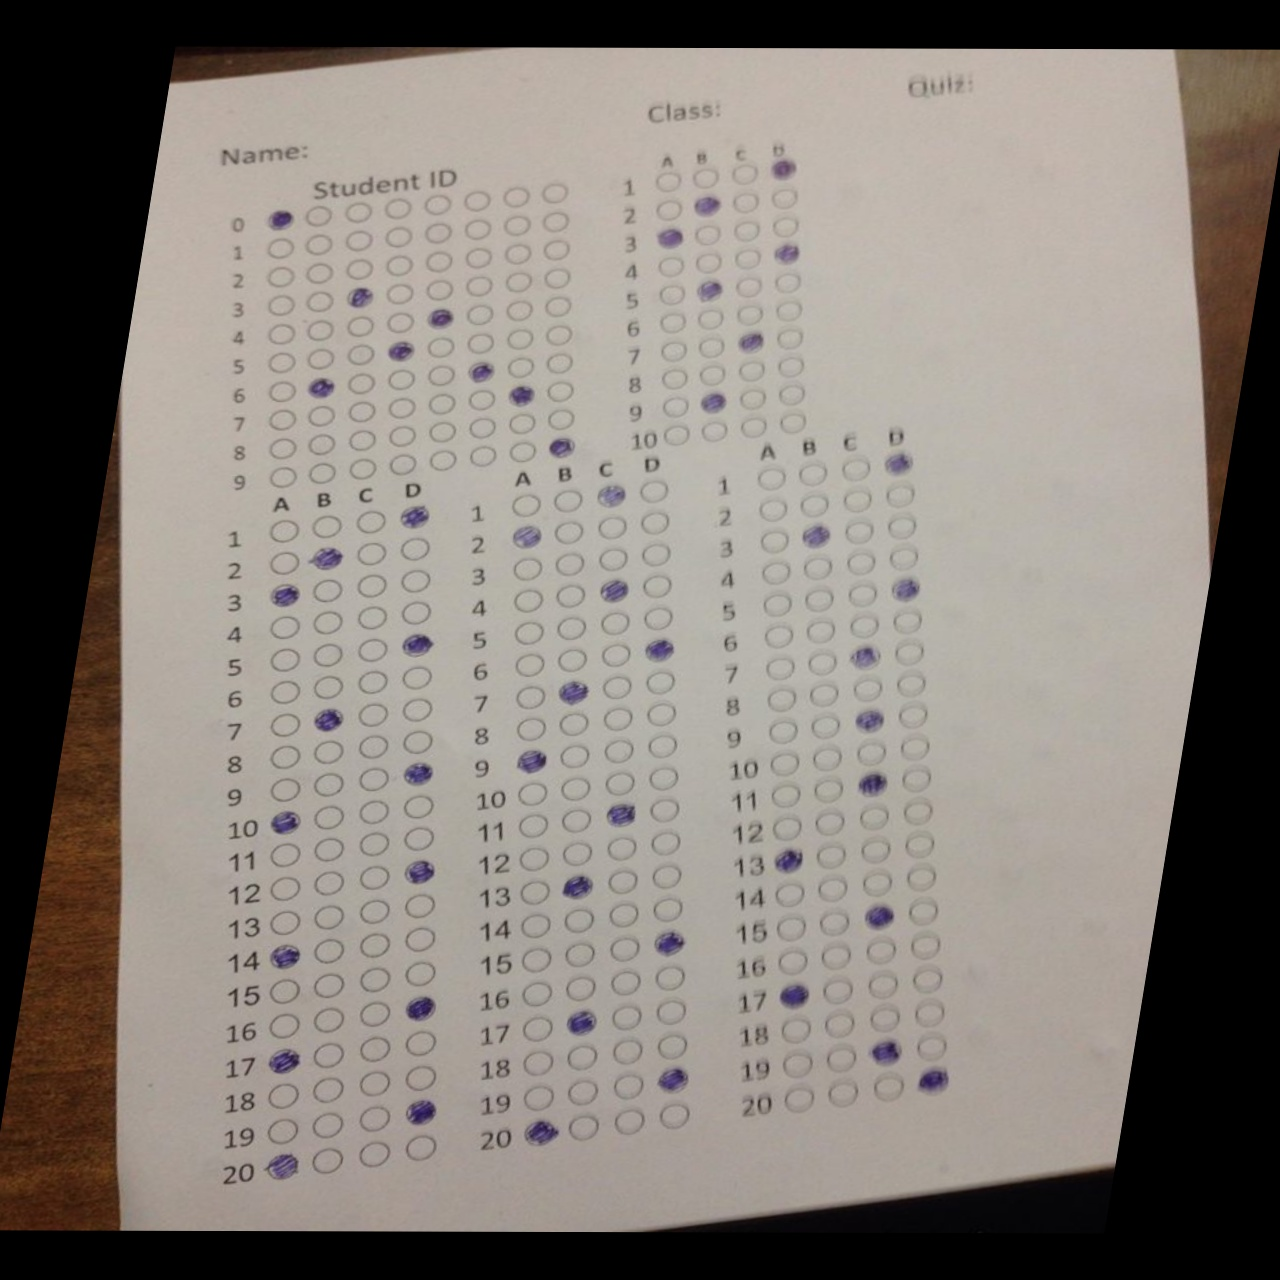not-c: (871, 1073, 911, 1104), (863, 1005, 903, 1034), (809, 775, 845, 805), (309, 1110, 347, 1139), (264, 1012, 302, 1040), (509, 619, 546, 647), (904, 865, 941, 893), (264, 910, 302, 937), (355, 966, 394, 993), (402, 1133, 441, 1160), (891, 704, 930, 731), (353, 1143, 395, 1167), (658, 1101, 692, 1131), (306, 1148, 346, 1173), (563, 1115, 602, 1141), (822, 1046, 862, 1071), (597, 642, 633, 670), (560, 941, 597, 969), (897, 735, 933, 763), (263, 1118, 301, 1144), (610, 1108, 648, 1133), (884, 516, 922, 542), (815, 945, 853, 971), (312, 770, 347, 798), (356, 767, 392, 795), (905, 898, 940, 926), (912, 1035, 947, 1063), (779, 1085, 815, 1114), (312, 937, 348, 964), (403, 1032, 440, 1058), (813, 876, 850, 903), (302, 459, 340, 485), (263, 1083, 300, 1109), (358, 1073, 395, 1098), (512, 715, 550, 741), (651, 864, 688, 890), (561, 908, 599, 934), (858, 871, 896, 897), (819, 979, 857, 1005), (517, 1017, 558, 1041), (753, 464, 787, 492), (377, 197, 416, 222), (309, 1078, 348, 1103), (772, 915, 811, 940), (311, 1041, 346, 1068), (772, 881, 808, 908), (313, 906, 349, 932), (355, 1107, 392, 1132), (644, 703, 680, 729), (517, 812, 553, 838), (561, 975, 598, 1001), (607, 971, 644, 996), (610, 1005, 646, 1030), (612, 1039, 648, 1064), (520, 1085, 557, 1111), (893, 674, 930, 700), (515, 914, 554, 938), (265, 979, 302, 1003), (645, 668, 678, 696), (840, 520, 878, 545), (857, 839, 894, 864), (312, 738, 346, 765), (401, 729, 435, 756), (806, 682, 840, 709), (400, 962, 441, 985), (397, 537, 433, 563), (311, 644, 346, 669), (399, 699, 437, 722), (265, 842, 300, 867), (356, 865, 392, 891), (598, 611, 633, 636), (510, 654, 549, 678), (554, 648, 590, 674), (608, 937, 644, 962), (654, 1034, 689, 1060), (612, 1074, 647, 1099), (768, 783, 803, 809), (901, 801, 937, 826), (266, 777, 302, 802), (309, 973, 346, 998), (356, 1000, 393, 1024), (552, 519, 588, 544), (518, 981, 554, 1006), (901, 835, 938, 859), (309, 676, 349, 699), (497, 186, 535, 210), (265, 551, 302, 574), (354, 606, 392, 629), (855, 805, 892, 829), (403, 893, 437, 919), (515, 685, 549, 710), (646, 767, 680, 792), (567, 1081, 601, 1107), (845, 583, 879, 608), (806, 652, 840, 678), (908, 967, 942, 993), (821, 1012, 855, 1037), (309, 515, 345, 539), (636, 542, 672, 566), (764, 720, 799, 744), (806, 716, 842, 741), (828, 1082, 863, 1107), (342, 343, 379, 367), (311, 872, 347, 896), (559, 777, 595, 801), (606, 904, 642, 927), (520, 1051, 557, 1075), (756, 530, 792, 553), (891, 611, 927, 634), (358, 670, 392, 695), (358, 900, 392, 925), (761, 626, 795, 651), (864, 940, 898, 965), (354, 833, 392, 856), (645, 799, 682, 822), (264, 409, 299, 433), (401, 666, 436, 689), (268, 877, 304, 900), (358, 933, 393, 956), (309, 1009, 345, 1033), (404, 1065, 440, 1089), (553, 584, 588, 607), (565, 1047, 600, 1070), (801, 590, 836, 613), (847, 615, 883, 639), (851, 679, 886, 702), (865, 974, 900, 998), (314, 836, 345, 863), (516, 949, 554, 971), (819, 911, 851, 937), (355, 703, 392, 726), (517, 847, 553, 870), (595, 516, 628, 540), (602, 770, 635, 795), (806, 618, 839, 642), (301, 202, 335, 225), (423, 192, 457, 216), (268, 647, 302, 670), (356, 639, 390, 662), (559, 811, 593, 835), (651, 899, 685, 922), (798, 493, 832, 517), (760, 561, 794, 585), (765, 688, 799, 712), (856, 741, 890, 764), (728, 164, 765, 185), (772, 356, 810, 377), (838, 459, 876, 481), (840, 491, 878, 512), (777, 1020, 815, 1041), (900, 767, 930, 794), (397, 602, 433, 625), (600, 678, 635, 700), (599, 740, 634, 762), (843, 553, 878, 576), (813, 846, 849, 869), (779, 1055, 815, 1077), (545, 324, 577, 348), (346, 428, 377, 452), (265, 463, 297, 488), (387, 452, 418, 477), (358, 574, 389, 599), (267, 712, 299, 736), (358, 736, 389, 761), (402, 795, 434, 819), (360, 1039, 392, 1063), (737, 387, 769, 411), (554, 617, 586, 641), (762, 593, 794, 618), (777, 949, 809, 974), (384, 309, 417, 333), (427, 393, 459, 416), (268, 745, 301, 769), (641, 610, 674, 633), (602, 708, 635, 731), (558, 744, 591, 768), (561, 844, 594, 867), (655, 1000, 688, 1023), (802, 556, 835, 579), (553, 554, 590, 576), (811, 813, 847, 835), (501, 241, 535, 264), (304, 348, 338, 370), (356, 802, 390, 824), (733, 304, 767, 326), (510, 496, 544, 518), (602, 837, 636, 859), (605, 871, 639, 893), (884, 485, 918, 508), (356, 511, 387, 536), (464, 245, 496, 268), (467, 333, 498, 356), (268, 519, 300, 543), (400, 570, 431, 593), (268, 617, 300, 640), (658, 424, 693, 445), (513, 588, 545, 612), (798, 463, 830, 486), (539, 183, 572, 205), (341, 229, 374, 251), (540, 240, 573, 263), (463, 274, 496, 297), (465, 304, 498, 326), (543, 353, 576, 375), (427, 451, 459, 474), (309, 580, 342, 602), (403, 829, 436, 851), (656, 312, 689, 334), (734, 360, 767, 382), (738, 416, 771, 438), (638, 512, 670, 535), (595, 549, 628, 571), (914, 1001, 947, 1023), (425, 365, 455, 389), (356, 540, 386, 565), (459, 190, 493, 211), (499, 215, 533, 236), (505, 356, 539, 377), (386, 397, 420, 418), (306, 434, 340, 455), (406, 930, 440, 951), (729, 192, 763, 213), (730, 220, 764, 241), (757, 501, 791, 522), (463, 218, 493, 241), (544, 210, 574, 233), (341, 258, 372, 281), (701, 418, 731, 442), (504, 271, 536, 293), (305, 319, 336, 341), (345, 315, 376, 338), (267, 437, 299, 459), (386, 425, 417, 448), (312, 806, 343, 829), (695, 365, 727, 387), (553, 489, 585, 511), (636, 481, 668, 503), (641, 578, 673, 600), (646, 734, 678, 756), (654, 967, 686, 989), (813, 749, 845, 771), (770, 818, 802, 840), (761, 659, 798, 678), (420, 222, 452, 243), (543, 268, 576, 290), (506, 411, 539, 433), (312, 613, 345, 634), (649, 171, 682, 192), (512, 558, 545, 579), (519, 881, 552, 903), (886, 550, 919, 571), (267, 381, 297, 404), (770, 188, 799, 211), (384, 284, 415, 306), (545, 295, 576, 318), (549, 407, 579, 429), (272, 681, 302, 703), (345, 458, 379, 478), (467, 447, 501, 467), (302, 233, 334, 254), (383, 256, 415, 277), (690, 223, 722, 244), (660, 397, 692, 418), (557, 715, 588, 736), (894, 642, 926, 663), (265, 237, 293, 260), (348, 400, 376, 423), (516, 785, 551, 804), (465, 392, 498, 411), (774, 302, 806, 322), (651, 835, 683, 855), (692, 166, 721, 189), (911, 937, 940, 959), (545, 382, 576, 403), (656, 286, 687, 307), (423, 253, 455, 273), (425, 338, 457, 358), (734, 248, 765, 268), (770, 753, 798, 775), (654, 200, 683, 222), (696, 338, 726, 359), (504, 302, 537, 321), (346, 374, 379, 393), (465, 418, 498, 437), (658, 370, 690, 389), (382, 227, 413, 247), (505, 331, 536, 350), (425, 280, 452, 302), (386, 370, 417, 389), (658, 342, 689, 361), (778, 384, 806, 406), (307, 292, 336, 312), (305, 406, 334, 425), (508, 441, 538, 459), (655, 257, 686, 275), (772, 274, 803, 293), (268, 350, 295, 372), (266, 325, 295, 343), (343, 202, 369, 223), (264, 268, 297, 285), (305, 265, 333, 284), (268, 295, 297, 314), (737, 278, 765, 297), (427, 423, 458, 440), (694, 253, 721, 272), (697, 309, 726, 327), (775, 331, 803, 348), (774, 217, 799, 234), (779, 415, 806, 431)
taken-c: (913, 1065, 954, 1098), (517, 1117, 559, 1145), (263, 1151, 302, 1180), (400, 1098, 440, 1126), (768, 845, 805, 874), (266, 1047, 302, 1076), (859, 903, 898, 930), (879, 452, 919, 478), (563, 1008, 599, 1036), (592, 483, 629, 510), (845, 644, 883, 670), (558, 873, 595, 900), (653, 1067, 690, 1094), (866, 1039, 904, 1065), (641, 636, 678, 663), (309, 707, 347, 733), (265, 942, 302, 968), (885, 578, 922, 604), (554, 679, 592, 704), (853, 771, 891, 797), (852, 704, 886, 733), (267, 583, 302, 610), (402, 995, 437, 1022), (649, 930, 685, 956), (775, 981, 810, 1008), (396, 503, 433, 529), (513, 747, 547, 774), (508, 525, 546, 549), (595, 577, 631, 602), (797, 524, 833, 549), (401, 761, 435, 787), (765, 156, 799, 182), (308, 545, 343, 570), (602, 803, 638, 828), (502, 382, 538, 406), (267, 810, 304, 833), (403, 859, 437, 884), (689, 193, 723, 218), (697, 389, 731, 414), (399, 633, 434, 656), (733, 329, 767, 353), (302, 376, 338, 399), (693, 277, 723, 301), (653, 225, 685, 248), (771, 241, 803, 265), (384, 339, 415, 362), (265, 207, 297, 230), (464, 360, 496, 382), (423, 306, 456, 327), (343, 286, 375, 307), (546, 436, 576, 457)
